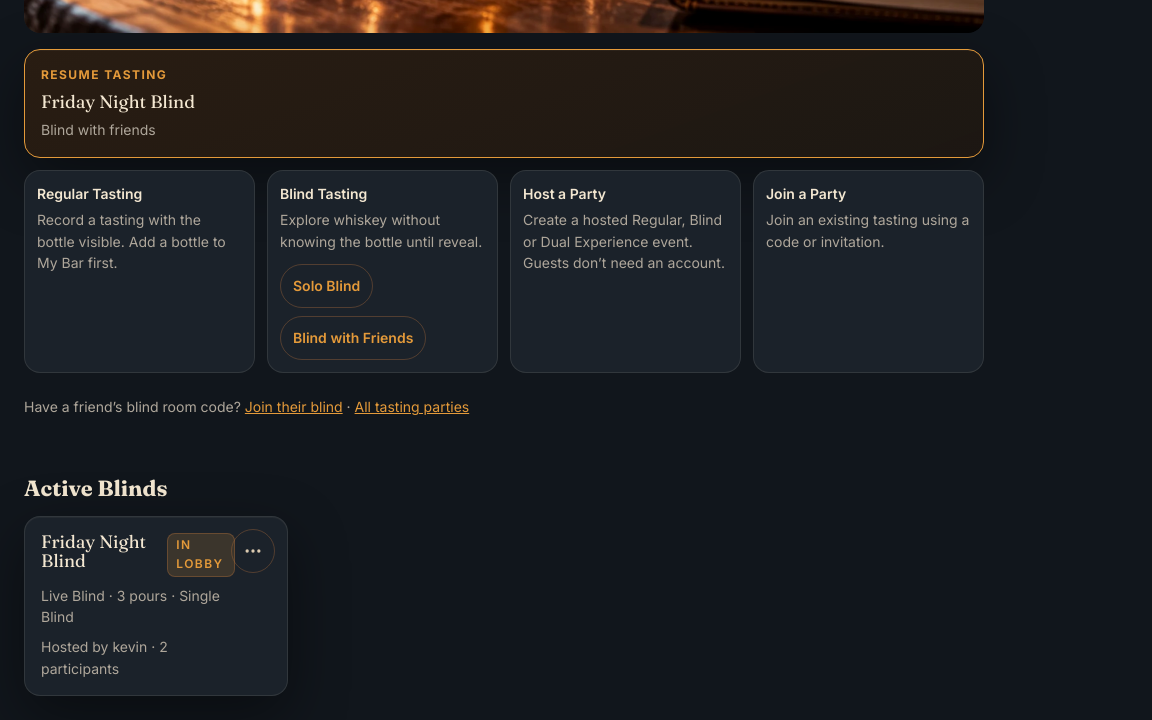
Test: BlindRoomLandingPage › lets the host permanently delete a blind after confirming
(page scrolled)
Click the button named "Friday Night Blind actions".
click(253, 551)  # box x1=231 y1=529 x2=275 y2=573
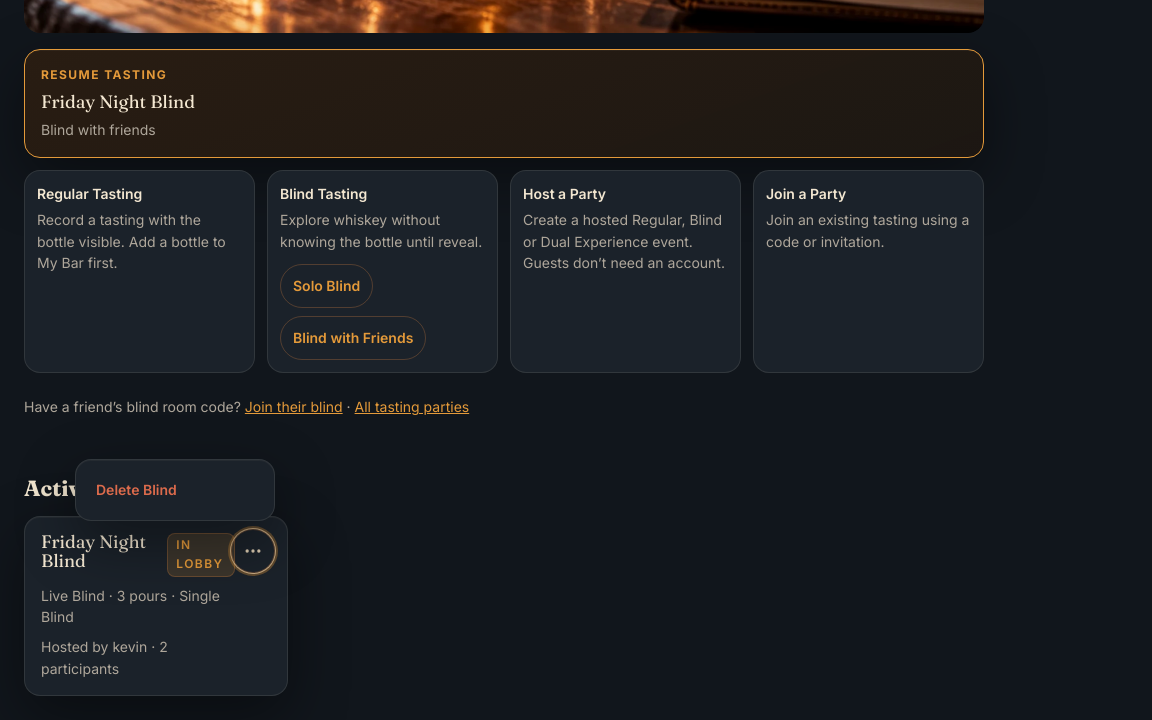
Click the menu item "Delete Blind".
click(175, 490)  # box x1=84 y1=468 x2=266 y2=512
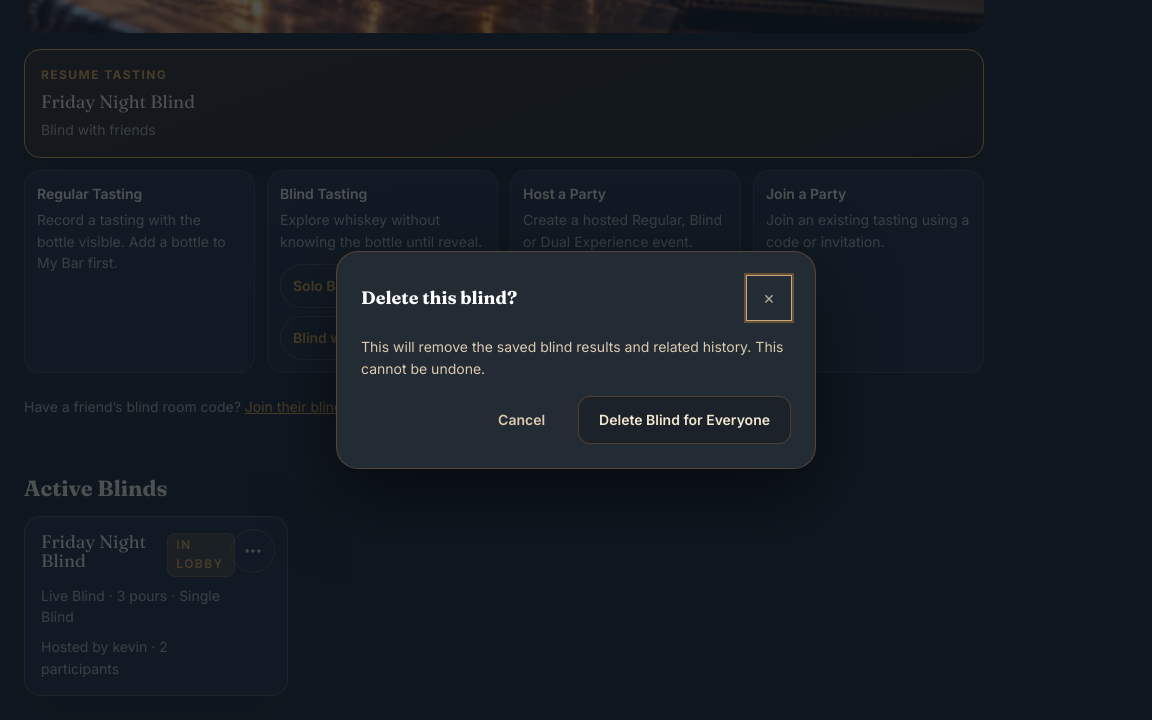
Expected: the heading "Delete this blind?" is shown, x1=361 y1=289 x2=517 y2=308
Expected: the text "This will remove the saved blind results and related history. This cannot be undone." is shown, x1=361 y1=338 x2=783 y2=377
Click the button "Delete Blind for Everyone".
click(685, 420)  # box x1=578 y1=396 x2=791 y2=444
(page scrolled)
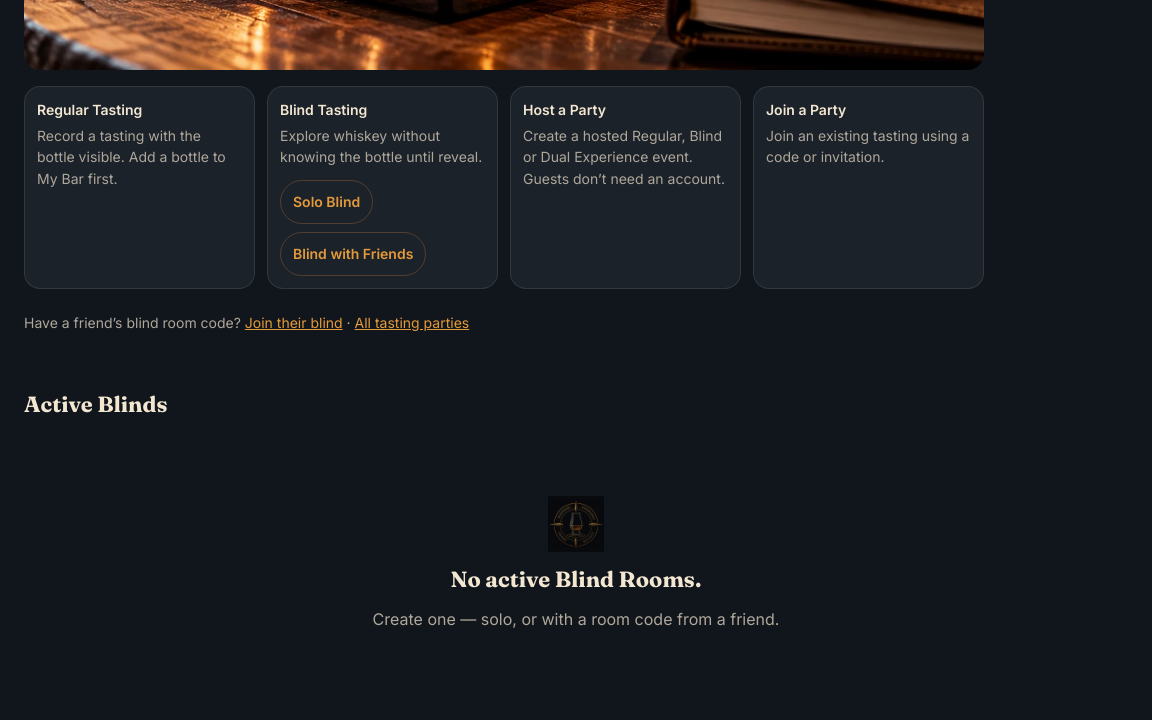
Expected: no links "Friday Night Blind" are shown
